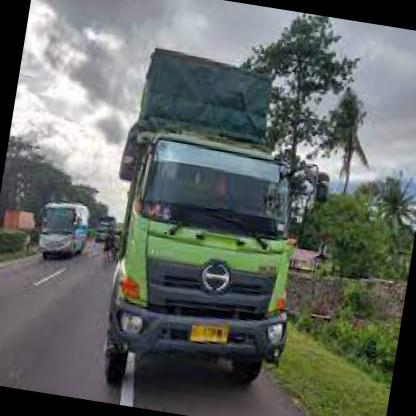truck: (95, 123, 319, 415)
